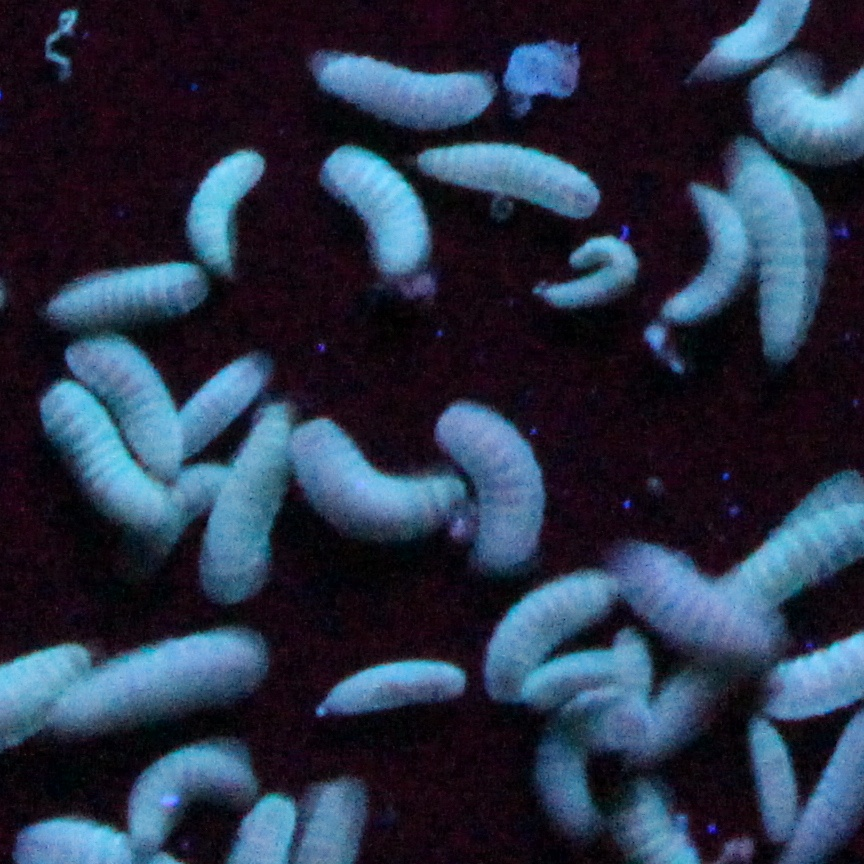larve: (52, 627, 266, 741), (612, 527, 775, 658), (292, 421, 461, 547), (46, 393, 181, 547), (195, 404, 292, 596), (312, 50, 481, 141), (738, 164, 817, 354), (443, 401, 535, 564), (483, 573, 601, 690), (315, 153, 426, 276), (655, 178, 738, 330), (423, 150, 592, 224), (138, 741, 261, 841), (306, 661, 469, 724), (43, 267, 195, 324), (549, 696, 609, 836), (183, 150, 258, 256), (538, 233, 641, 307), (755, 727, 798, 841)
